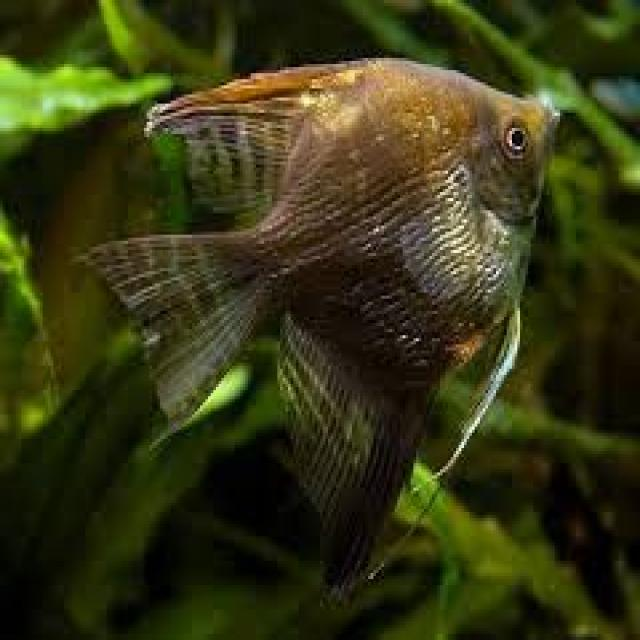AngelFish: (90, 61, 556, 604)
